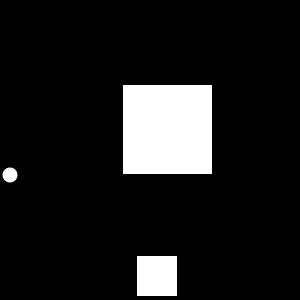circle: (123, 85, 212, 174), (137, 256, 177, 296)
rectangle: (2, 168, 18, 183)
